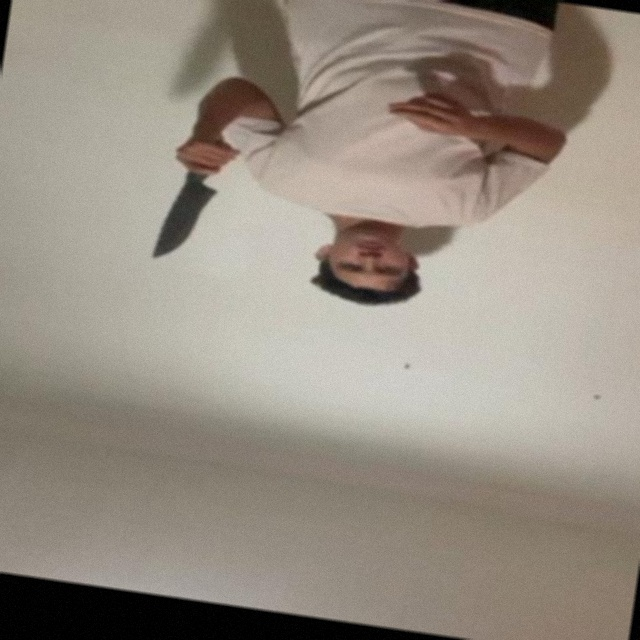Sharp-Object: (154, 184, 215, 265)
